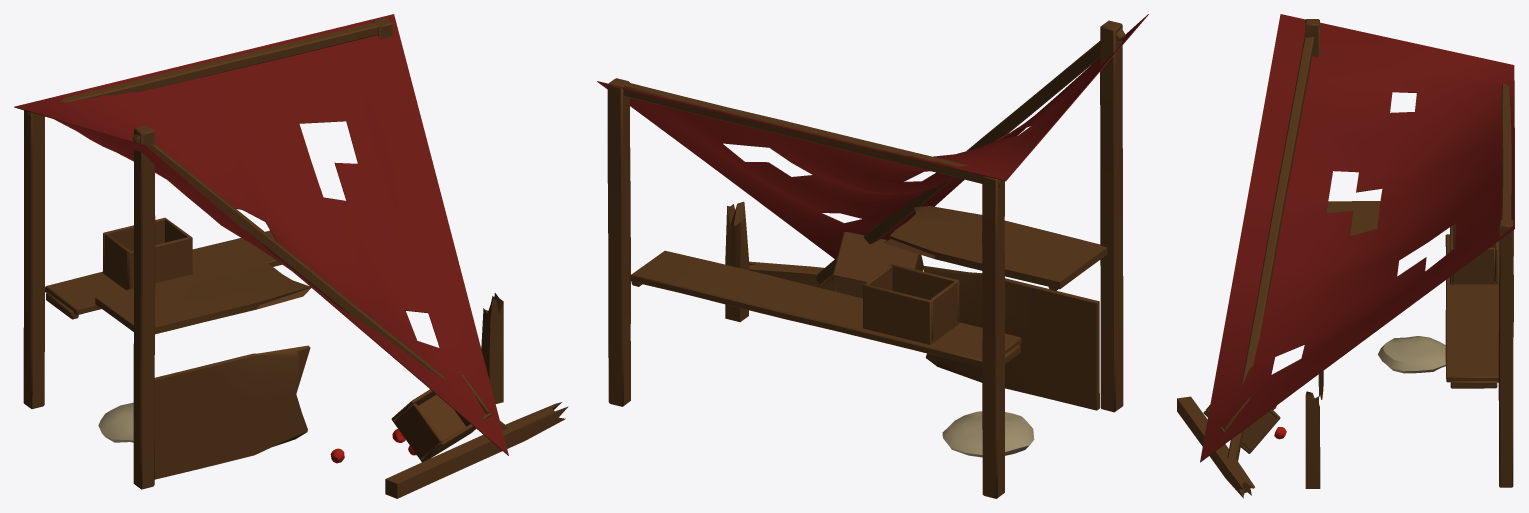
File: marktstand_kaputt.glb
The picture shows the model from 3 angles, left to right: view 1: azimuth 30°, elevation 25°; view 2: azimuth 150°, elevation 25°; view 3: azimuth 270°, elevation 25°; orthographic projection. The views are drawn at different scales.
Parts seen in each view (by area): view 1: marktstand_kaputt; view 2: marktstand_kaputt; view 3: marktstand_kaputt.
Boxes of the visible parts, bbox=[...] form: marktstand_kaputt: bbox=[14, 14, 568, 498]; marktstand_kaputt: bbox=[597, 14, 1148, 498]; marktstand_kaputt: bbox=[1177, 14, 1514, 498].
Size of the model in its own units: 2.54 by 2.16 by 2.09.
